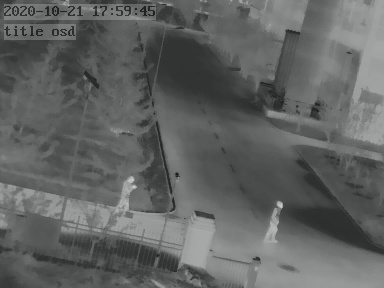person: (116, 174, 136, 216), (266, 199, 282, 243)
